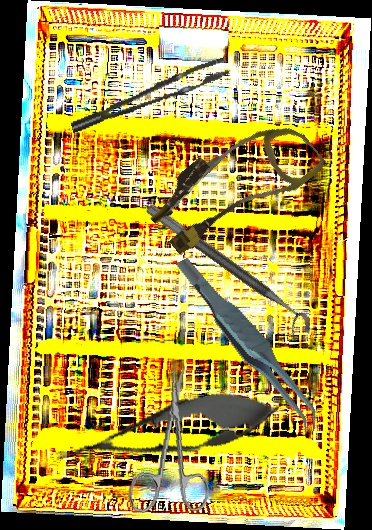Cannula: (140, 97, 328, 273)
Fixation Ring: (134, 201, 319, 347)
Iris Scissors: (126, 360, 223, 520)
Micro Scissor: (46, 376, 287, 486)
Tissue Forceps: (175, 236, 323, 453), (64, 57, 234, 133)
